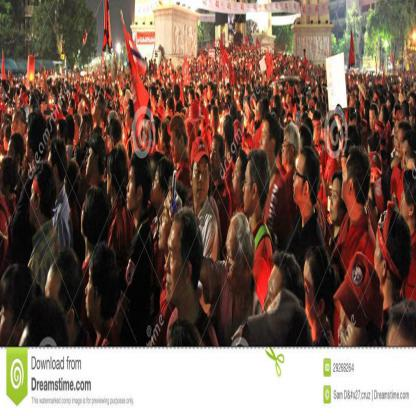face: (44, 280, 67, 346), (167, 230, 186, 300), (226, 233, 244, 293), (340, 306, 363, 347), (1, 295, 19, 347), (304, 266, 319, 321), (264, 270, 283, 311), (159, 195, 173, 249), (193, 160, 209, 202), (86, 266, 97, 320), (375, 231, 387, 279), (294, 160, 306, 205), (47, 151, 58, 194), (244, 167, 254, 213), (30, 180, 40, 222), (331, 183, 342, 221), (128, 169, 138, 210), (233, 159, 243, 196), (152, 170, 162, 203), (371, 168, 381, 201), (342, 158, 350, 199), (282, 134, 292, 166), (261, 126, 271, 157), (7, 141, 16, 175), (172, 133, 182, 163), (87, 146, 95, 180), (12, 118, 22, 145), (211, 142, 220, 172), (403, 143, 411, 173), (79, 119, 87, 142), (398, 132, 404, 158), (93, 96, 99, 118), (371, 111, 377, 130), (342, 150, 347, 172), (316, 125, 322, 142), (126, 107, 131, 127), (244, 136, 249, 156), (123, 93, 129, 107), (257, 104, 262, 120), (338, 115, 343, 130), (300, 98, 305, 112), (375, 94, 380, 108), (207, 85, 212, 99), (410, 97, 415, 110), (327, 129, 330, 150), (41, 101, 46, 113), (351, 117, 357, 126), (350, 95, 354, 108), (4, 134, 7, 151), (211, 110, 214, 127), (69, 102, 72, 113), (287, 94, 290, 104), (360, 91, 363, 101), (2, 84, 3, 94)
